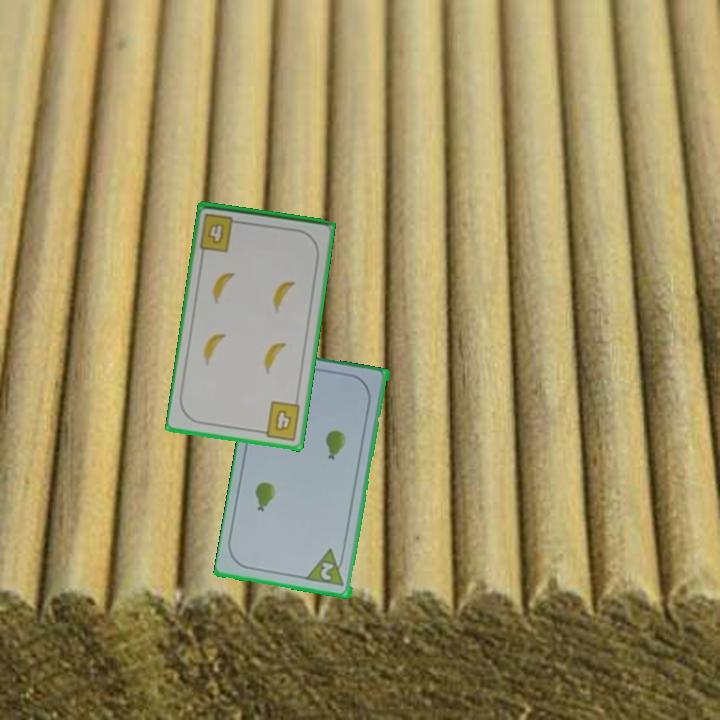2p: (317, 559, 337, 583)
4b: (196, 210, 245, 255), (256, 398, 303, 443)
